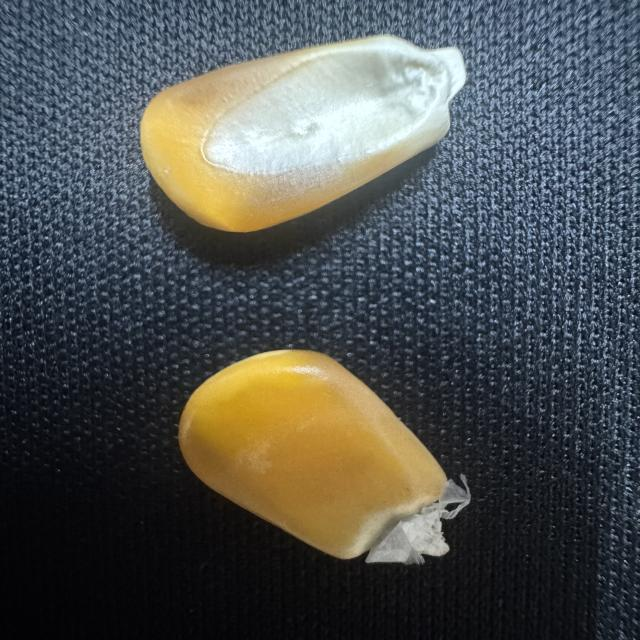Good-Seed: (172, 338, 497, 576), (136, 27, 480, 247)
